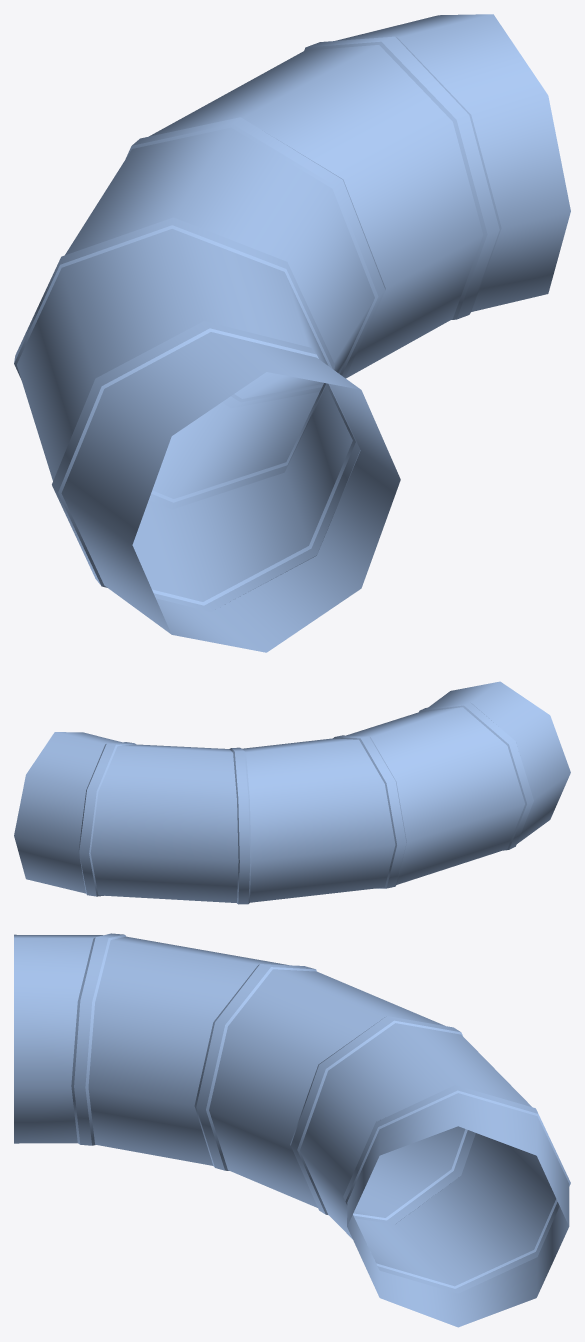
The model's file is PipeSmall_Stepped_Bent_02.fbx.
The picture shows the model from 3 angles, top to bottom: view 1: azimuth 30°, elevation 25°; view 2: azimuth 150°, elevation 25°; view 3: azimuth 270°, elevation 25°; orthographic projection. The views are drawn at different scales.
Visible parts, largest first — view 1: PipeSmall_Stepped_Bent_02.001; view 2: PipeSmall_Stepped_Bent_02.001; view 3: PipeSmall_Stepped_Bent_02.001.
Part boxes in pixels (<box>): PipeSmall_Stepped_Bent_02.001: <box>14,14,570,652</box>; PipeSmall_Stepped_Bent_02.001: <box>14,681,570,904</box>; PipeSmall_Stepped_Bent_02.001: <box>14,933,570,1327</box>.
Size of the model in its own units: 0.2508 by 0.1016 by 0.2508.
